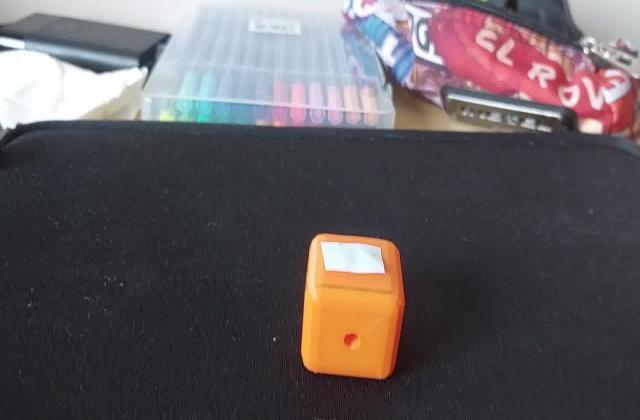cube: (300, 230, 409, 386)
white: (322, 243, 388, 278)
